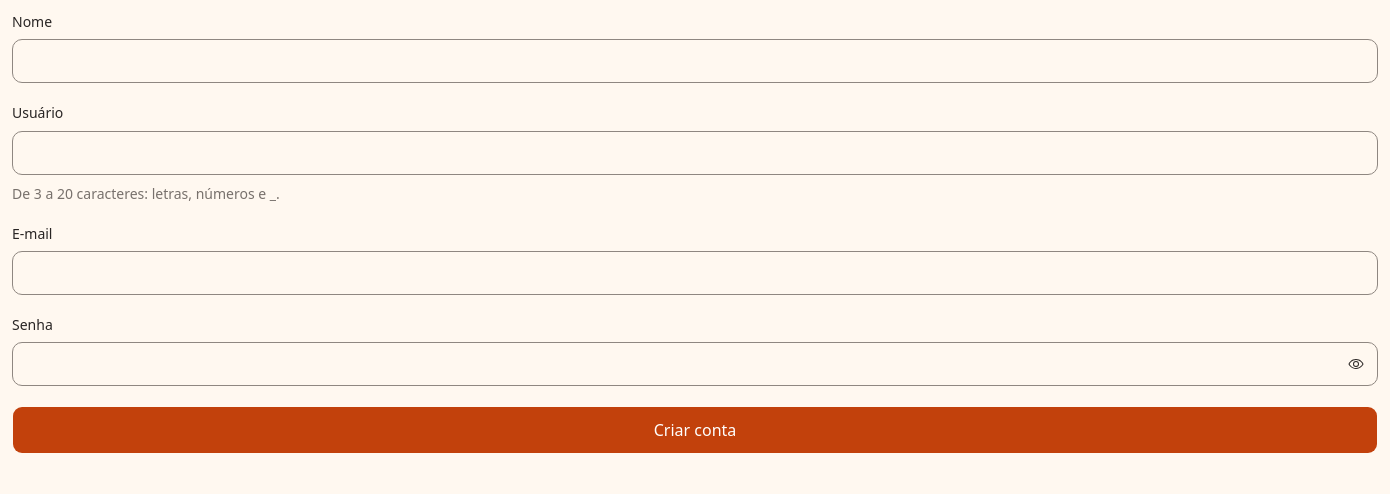
Test: SignUpForm › marks the username field when the username is taken
Type "Ana Souza" into the field labelled "Nome" at (695, 61), box [12,39,1378,83]
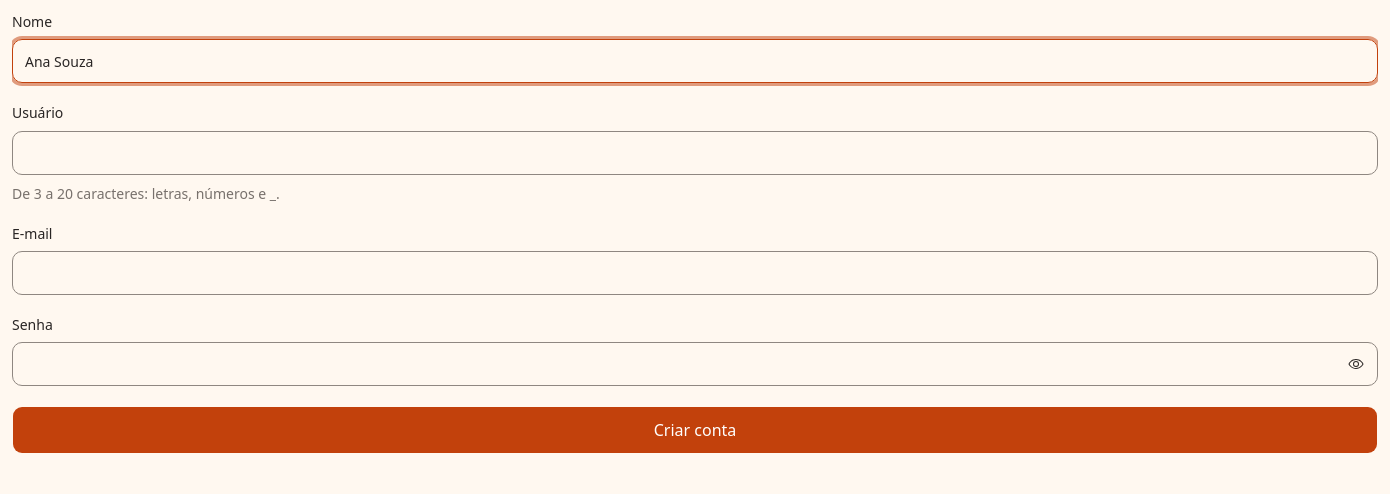
Type "ana_souza" into the field labelled "Usuário" at (695, 152), box [12,130,1378,174]
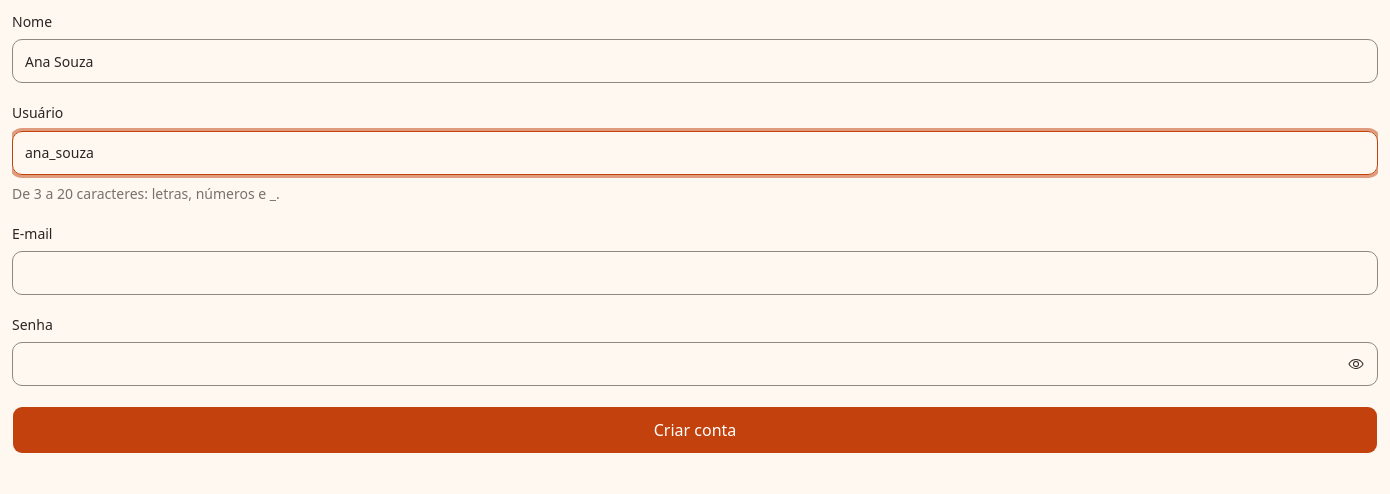
Type "ana@example.com" into the field labelled "E-mail" at (695, 273), box [12,251,1378,295]
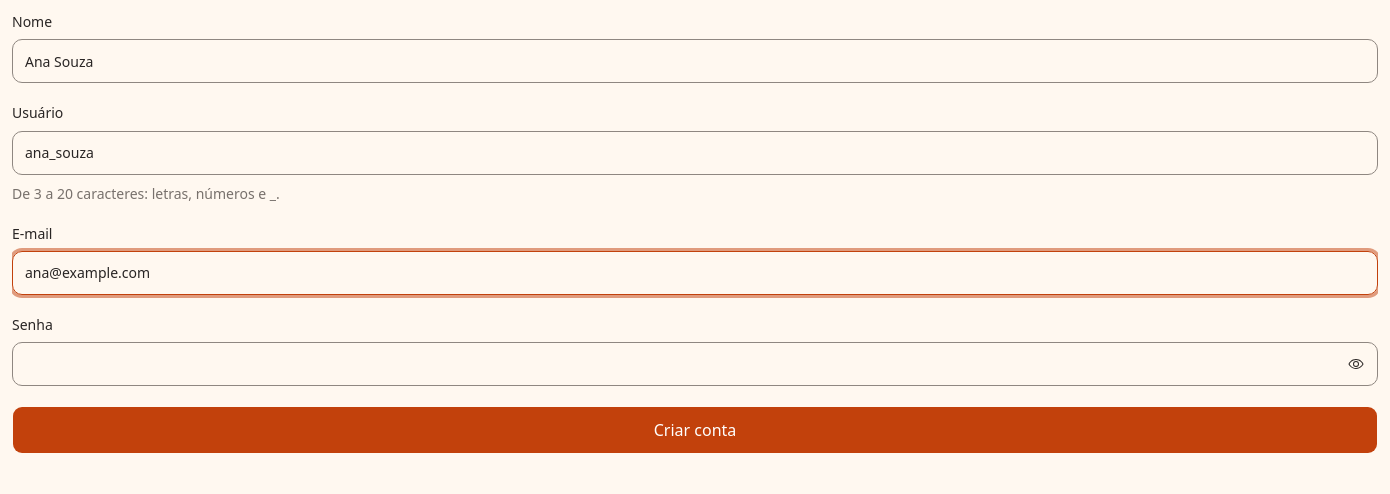
Type "secret" into the password field labelled "Senha" at (695, 364), box [12,342,1378,386]
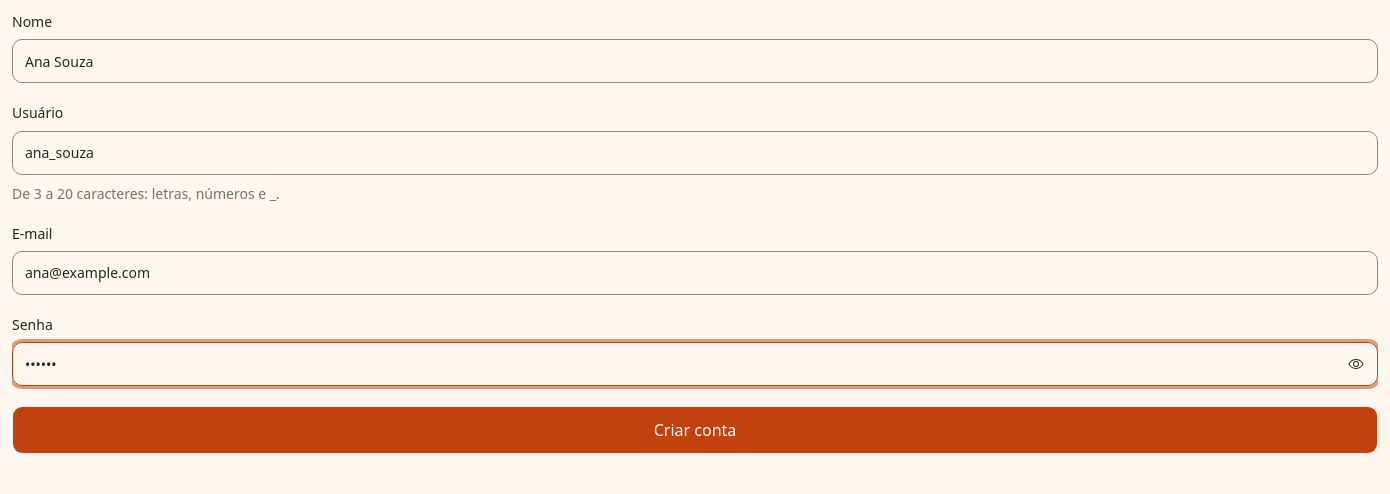
Click the button "Criar conta" at (695, 430), box [12,406,1378,454]
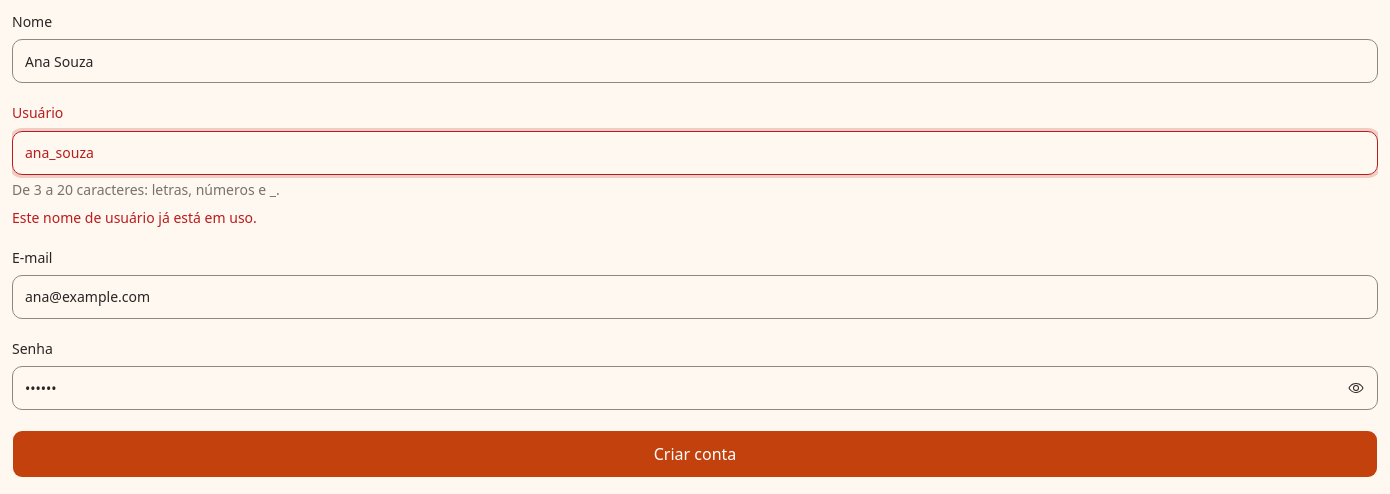
Expected: the text "Este nome de usuário já está em uso." is shown, [12,208,257,226]
